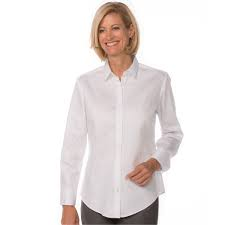S_shirt: (42, 54, 183, 219)
